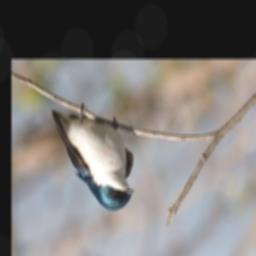Swallow: (49, 101, 133, 211)
